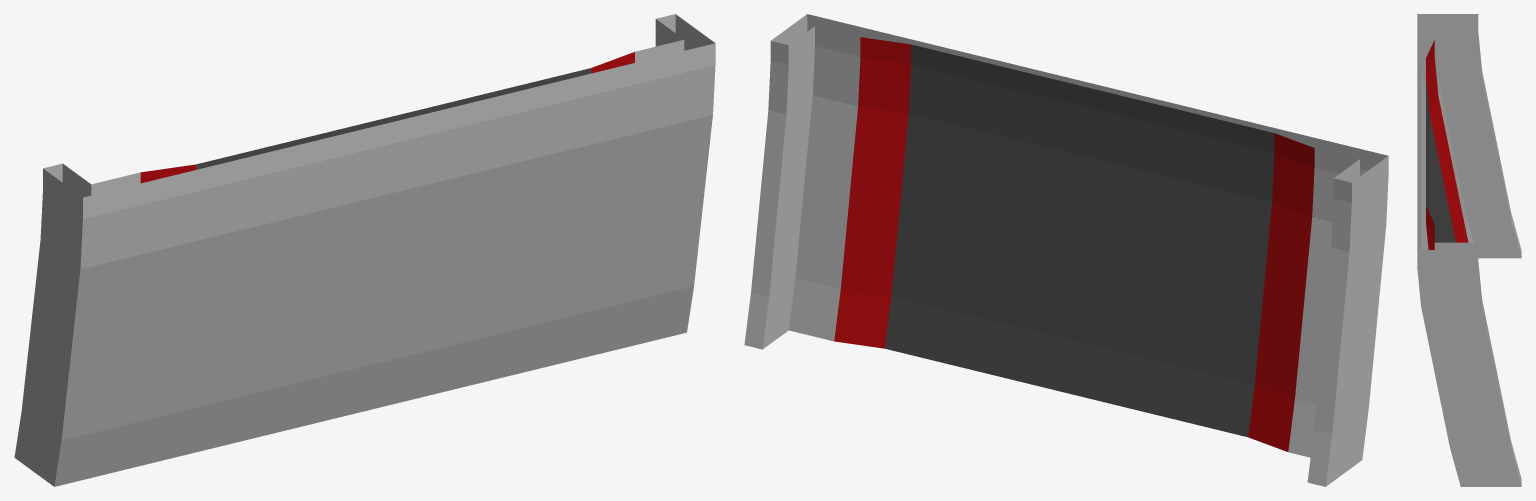
Rendered from Transition_Up_Pitch1.fbx.
The picture shows the model from 3 angles, left to right: view 1: azimuth 30°, elevation 25°; view 2: azimuth 150°, elevation 25°; view 3: azimuth 270°, elevation 25°; orthographic projection. The views are drawn at different scales.
Parts seen in each view (by area): view 1: Transition_Up_Pitch1; view 2: Transition_Up_Pitch1; view 3: Transition_Up_Pitch1.
Part boxes in pixels (box(x1,y1,x2,y2)): Transition_Up_Pitch1: box(14, 14, 715, 486); Transition_Up_Pitch1: box(744, 14, 1388, 486); Transition_Up_Pitch1: box(1417, 14, 1521, 486).
Bounding box in the file's own units: 1280 × 600 × 240.
